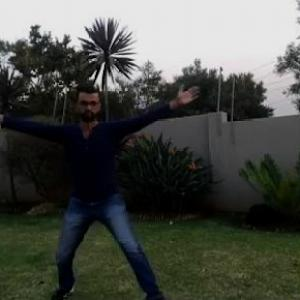takeoff: (1, 74, 177, 296)
